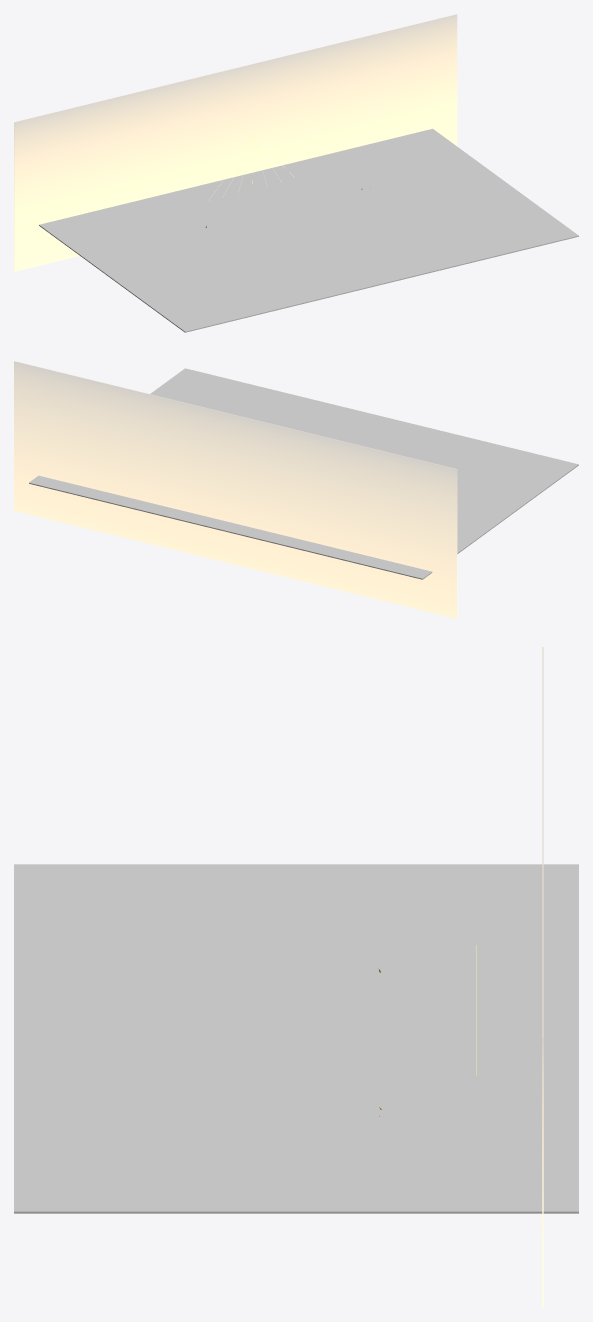
The model's file is goldrush.glb.
3 views of the same model, one above another, from view 1: azimuth 30°, elevation 25°; view 2: azimuth 150°, elevation 25°; view 3: azimuth 270°, elevation 25° (orthographic). The views are drawn at different scales.
Visible parts, largest first — view 1: Ground contact / transparent shadow receiver.008, Sky gradient / editable material.008; view 2: Sky gradient / editable material.008, Ground contact / transparent shadow receiver.008; view 3: Ground contact / transparent shadow receiver.008, Sky gradient / editable material.008.
Part boxes in pixels (x1,y1,x2,y2): Ground contact / transparent shadow receiver.008: [39, 128, 578, 332]; Sky gradient / editable material.008: [14, 14, 457, 271]; Sky gradient / editable material.008: [14, 361, 457, 618]; Ground contact / transparent shadow receiver.008: [29, 368, 578, 579]; Ground contact / transparent shadow receiver.008: [14, 864, 578, 1213]; Sky gradient / editable material.008: [542, 647, 543, 1307].
Size of the model in its own units: 180 by 58 by 110.
